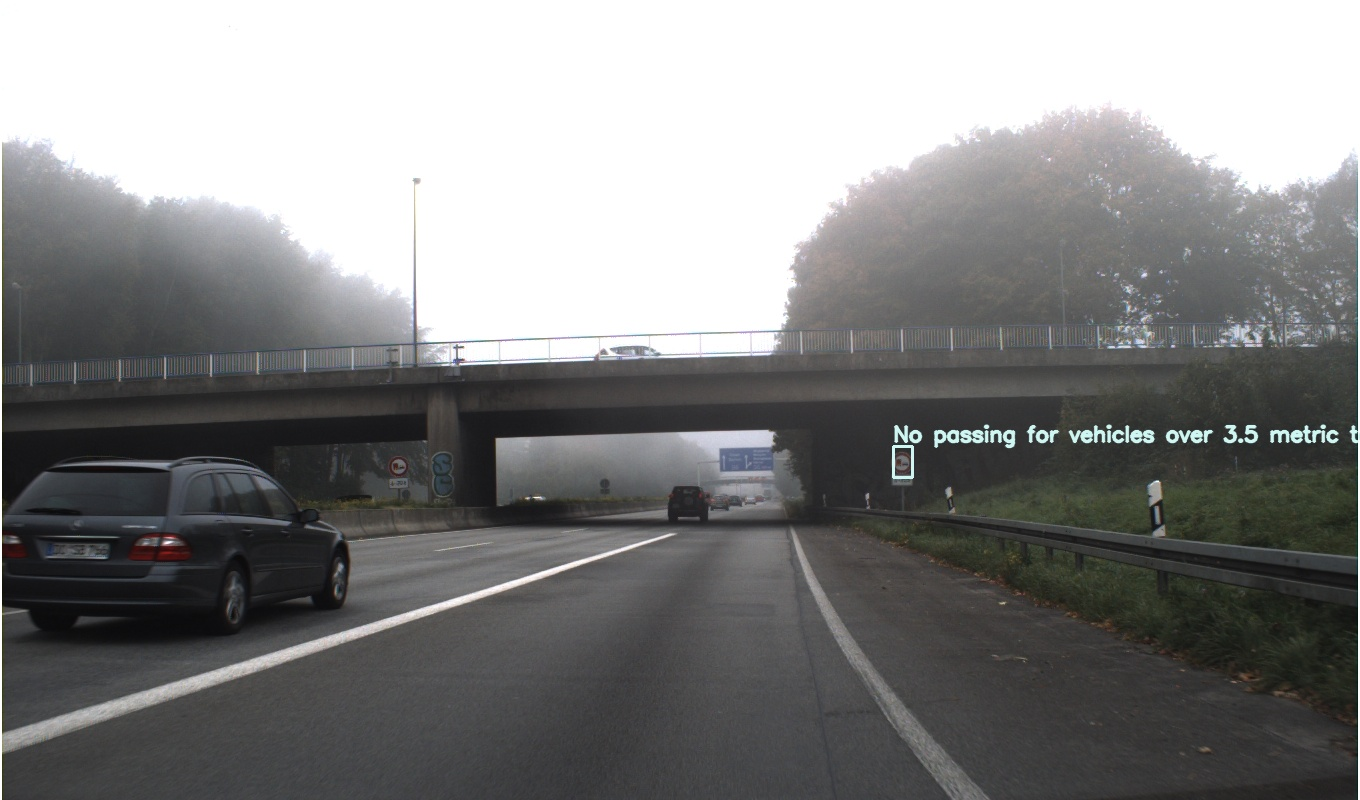Roundabout mandatory: (1071, 297, 1142, 368)
Yield: (1054, 208, 1152, 296)
